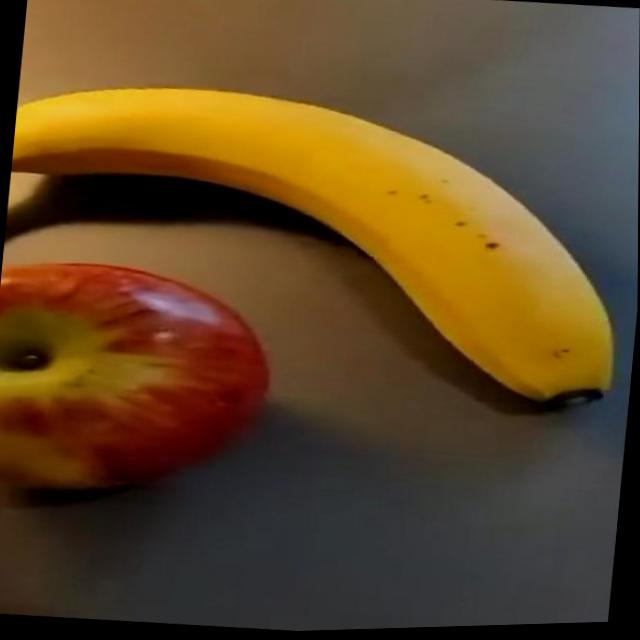Apple: (0, 249, 281, 509)
Banana: (0, 61, 639, 430)
